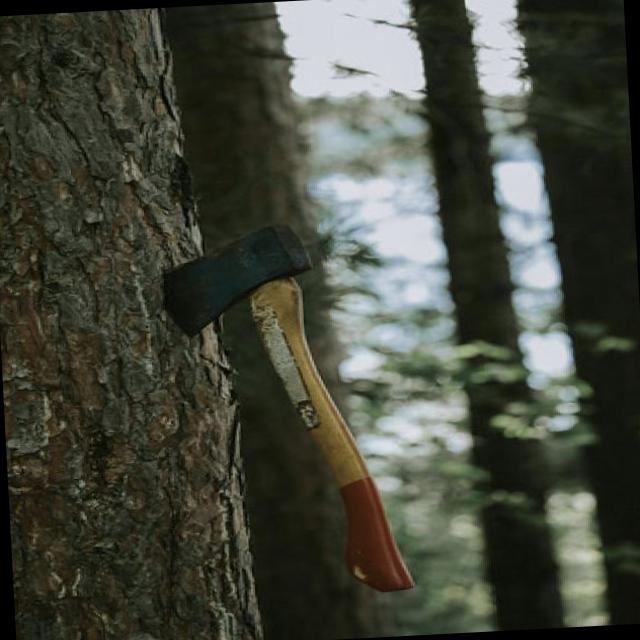Axe: (165, 226, 412, 591)
